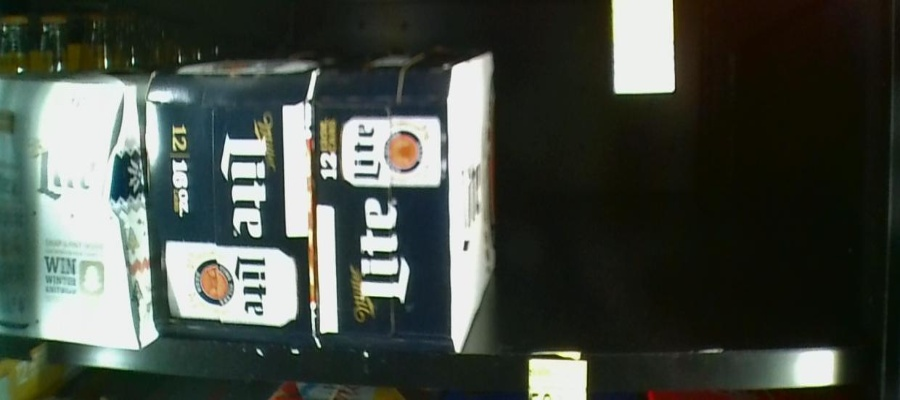bottle: (314, 60, 488, 352), (143, 62, 310, 346), (1, 76, 145, 351)
